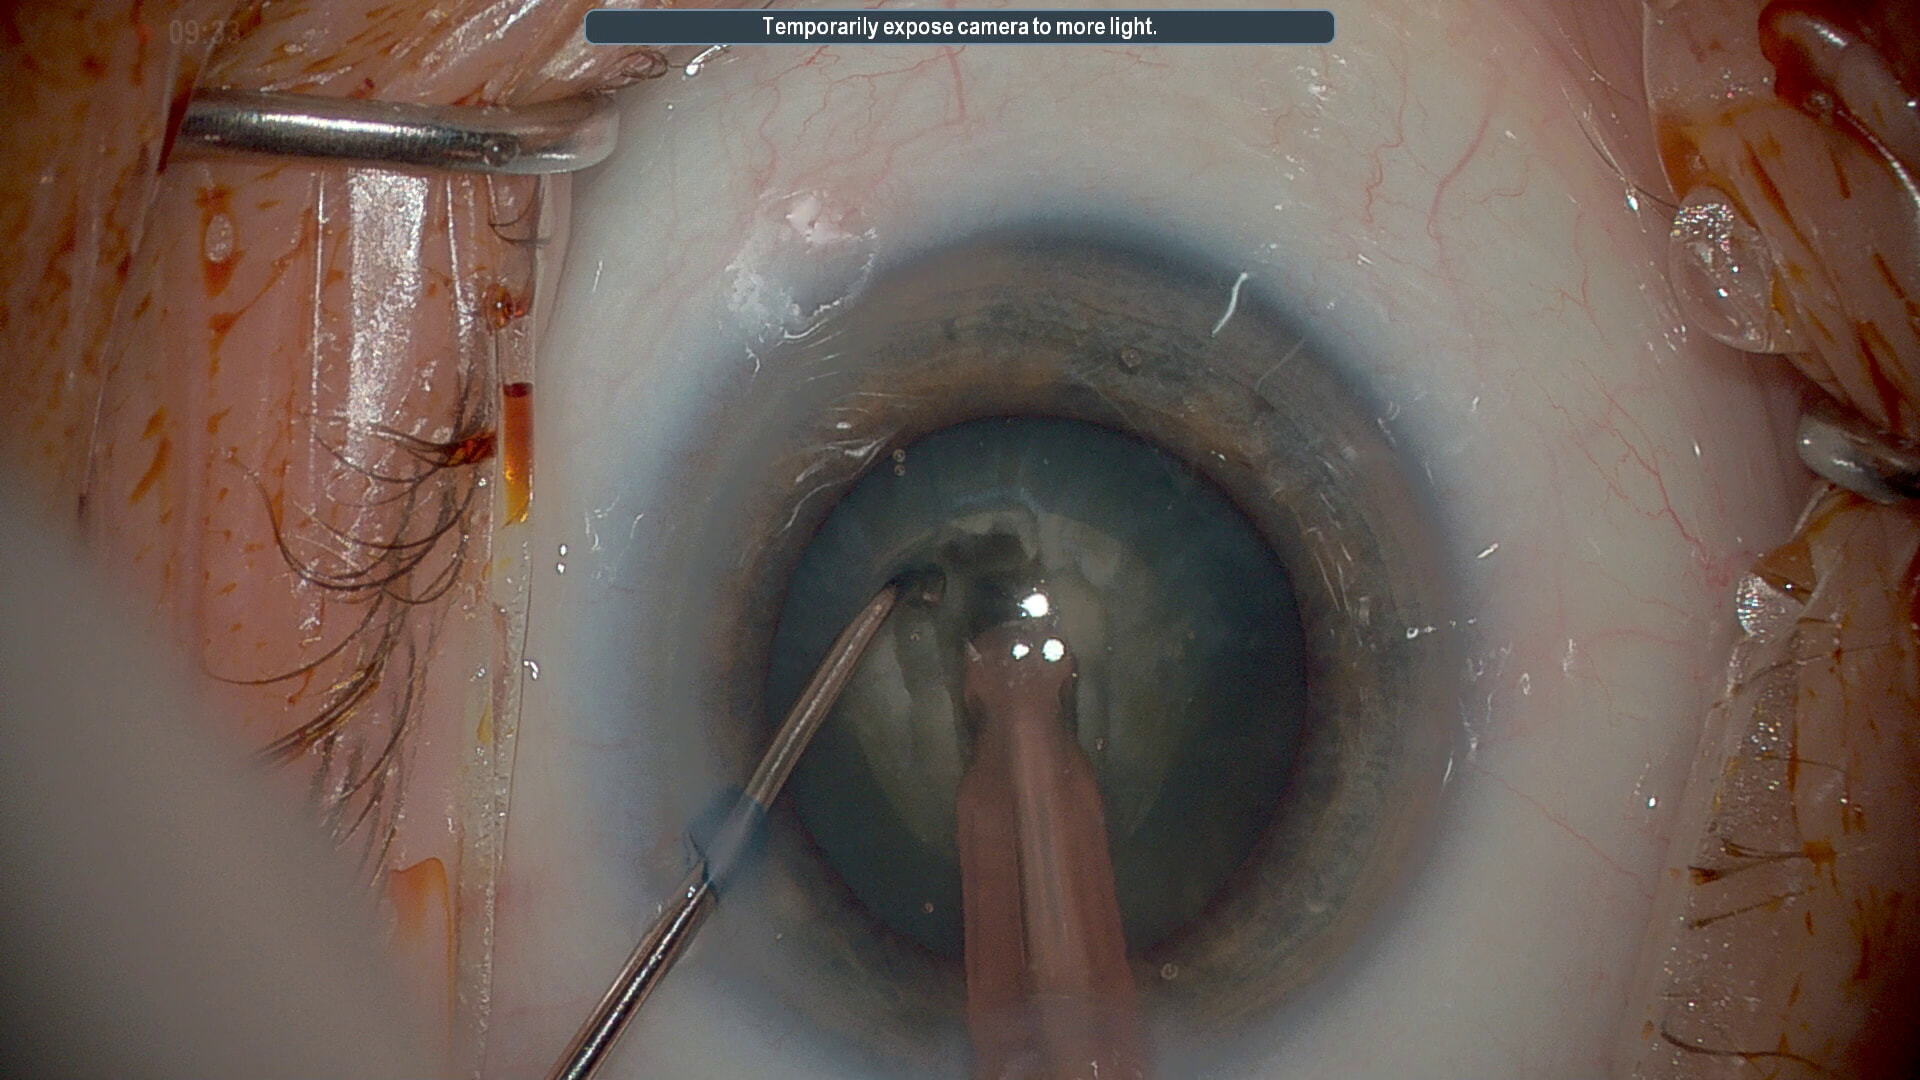iris: (669, 236, 1457, 1077)
pupil: (766, 412, 1325, 985)
